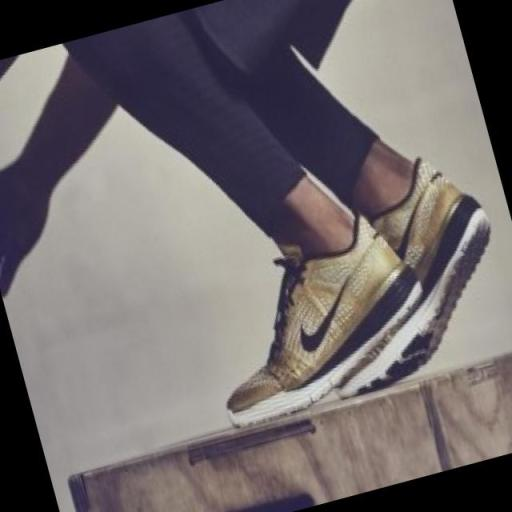Nike: (282, 272, 376, 357)
